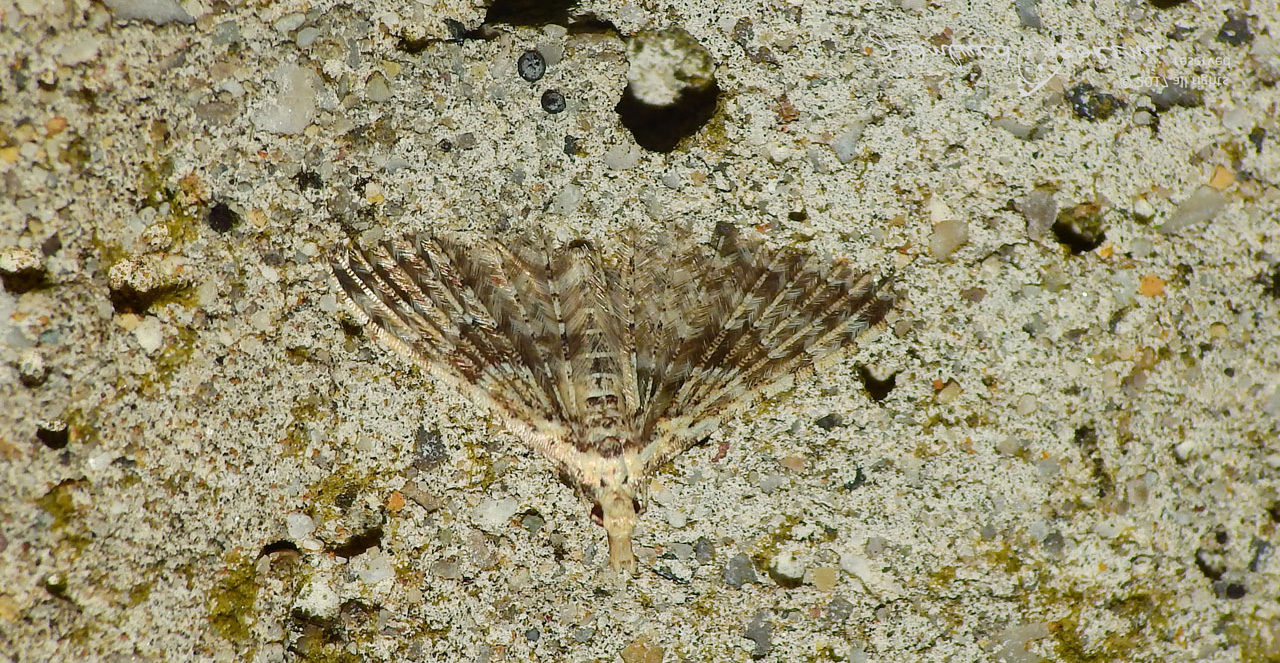Alucitidae: (309, 202, 945, 551)
moth: (311, 204, 947, 553)
